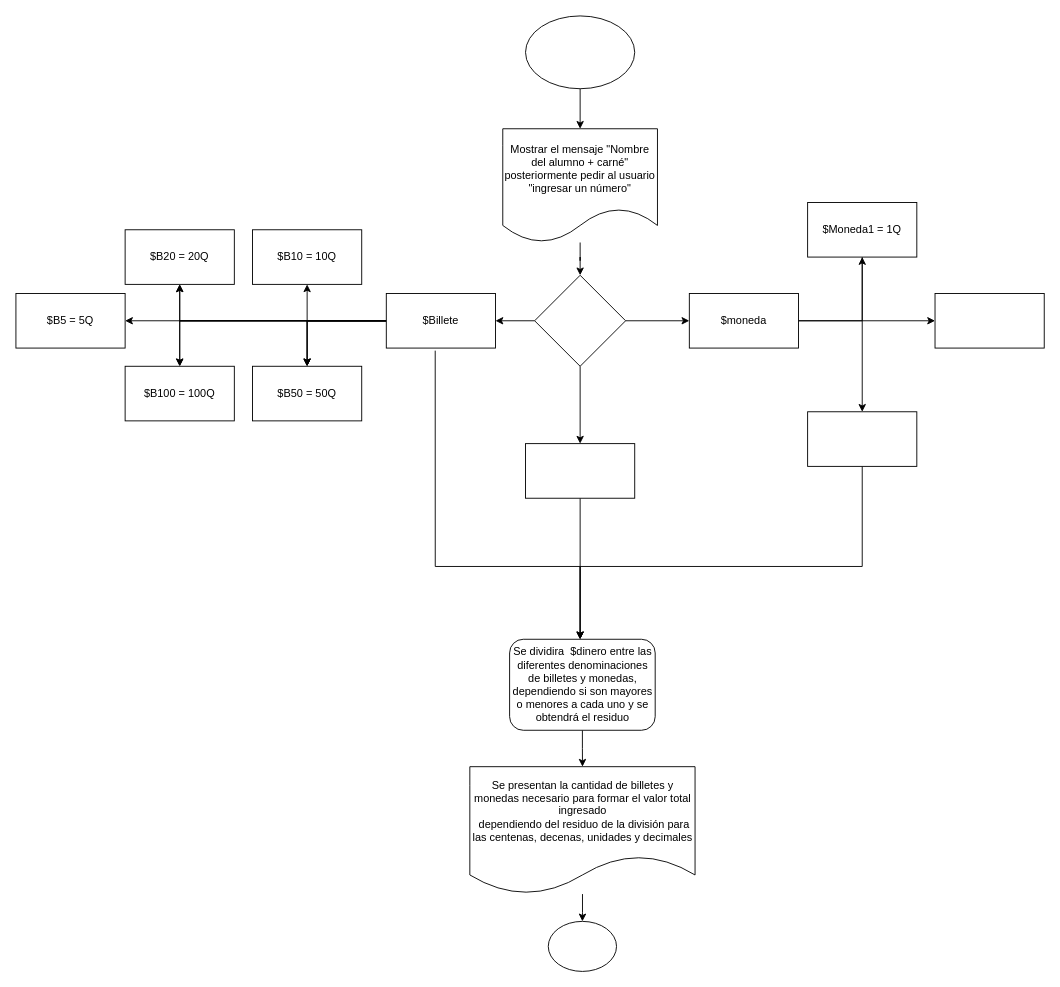
Some shapes in this 1060 by 987 pixel diagram are drawn without their labels. Each missing label, with the box of its shape:
$dinero: (525, 443, 635, 498)
$Moneda0.01= 0.01Q: (934, 293, 1044, 348)
$Moneda0.25 = 0.25Q: (807, 411, 917, 466)
Definir variables: (534, 274, 626, 366)
Fin: (547, 920, 617, 971)
Inicio: (525, 15, 635, 89)
